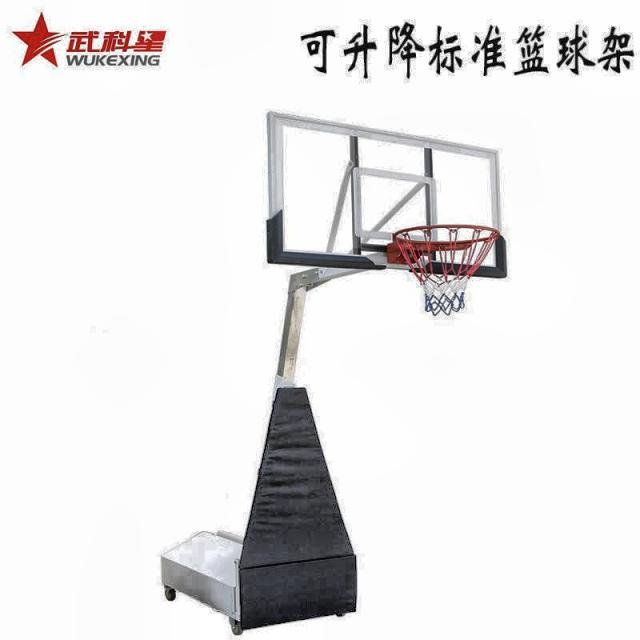rim: (395, 224, 499, 317)
